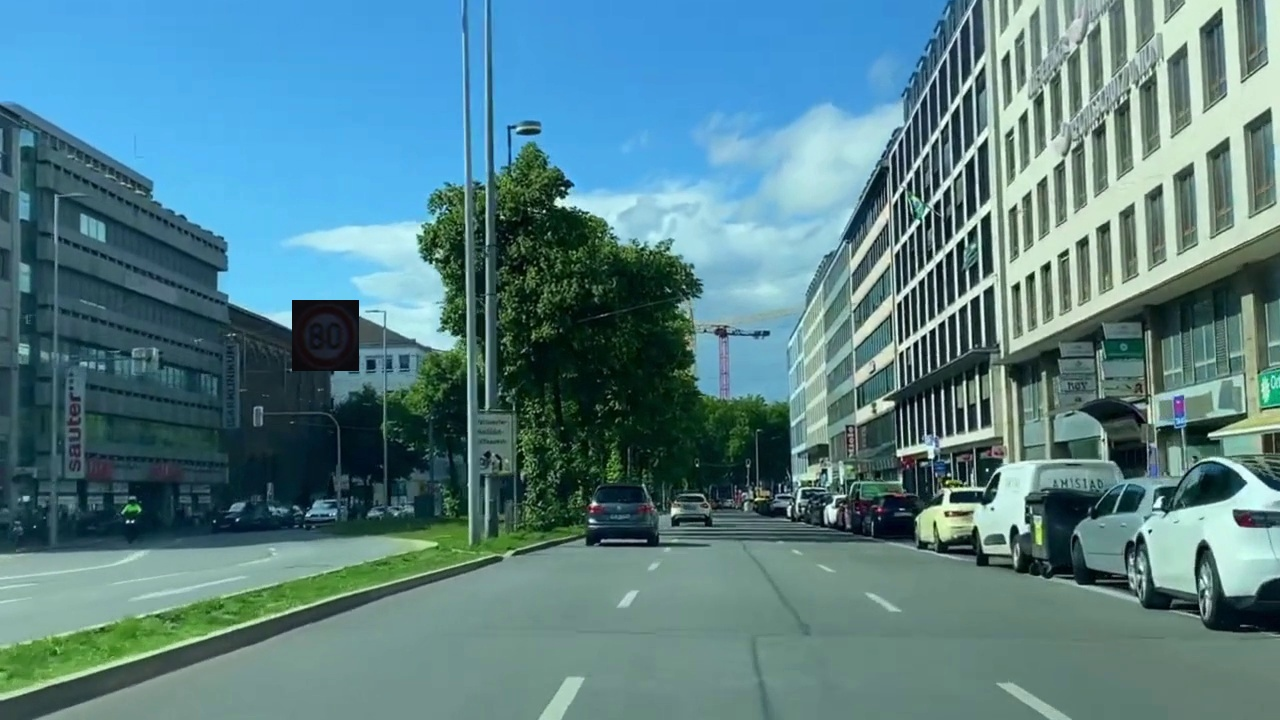Speed 80: (292, 300, 359, 371)
